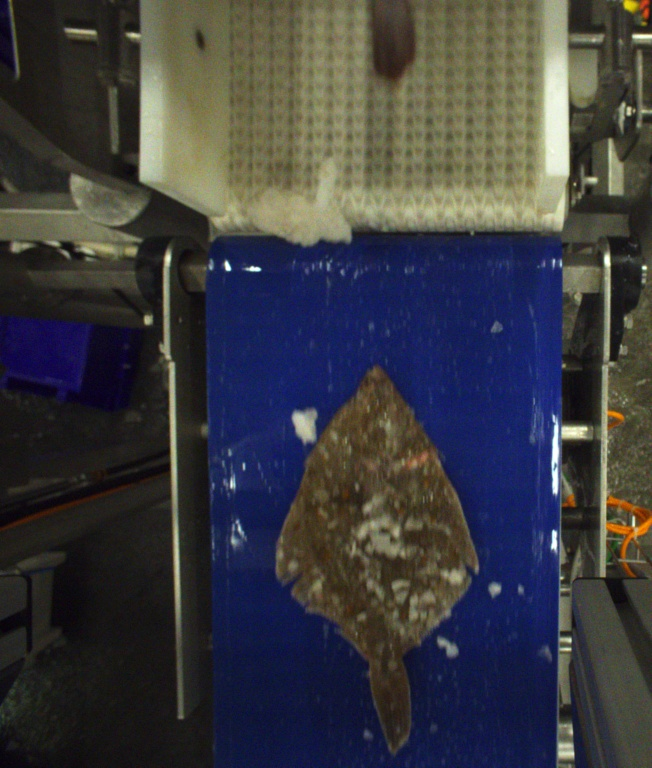PLE: (271, 364, 481, 756)
